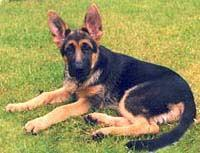German_shepherd: (7, 3, 195, 152)
